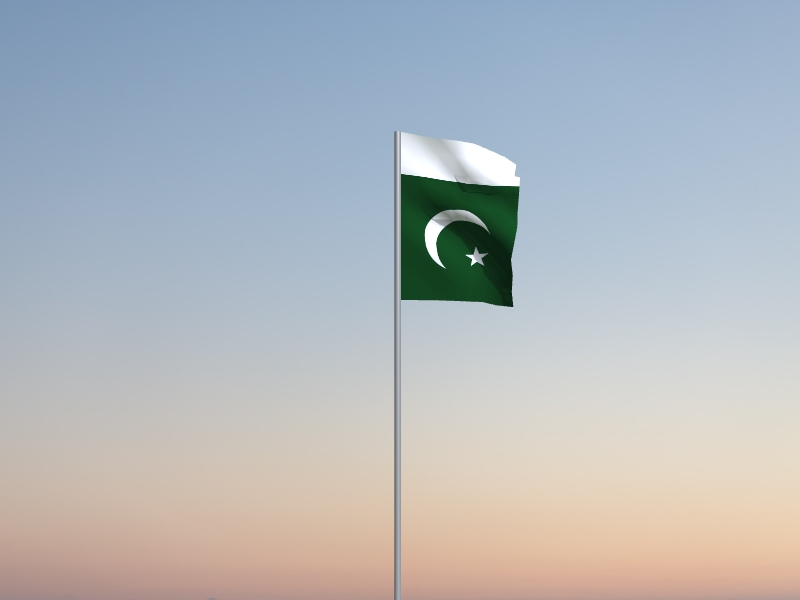pk: (401, 132, 522, 309)
